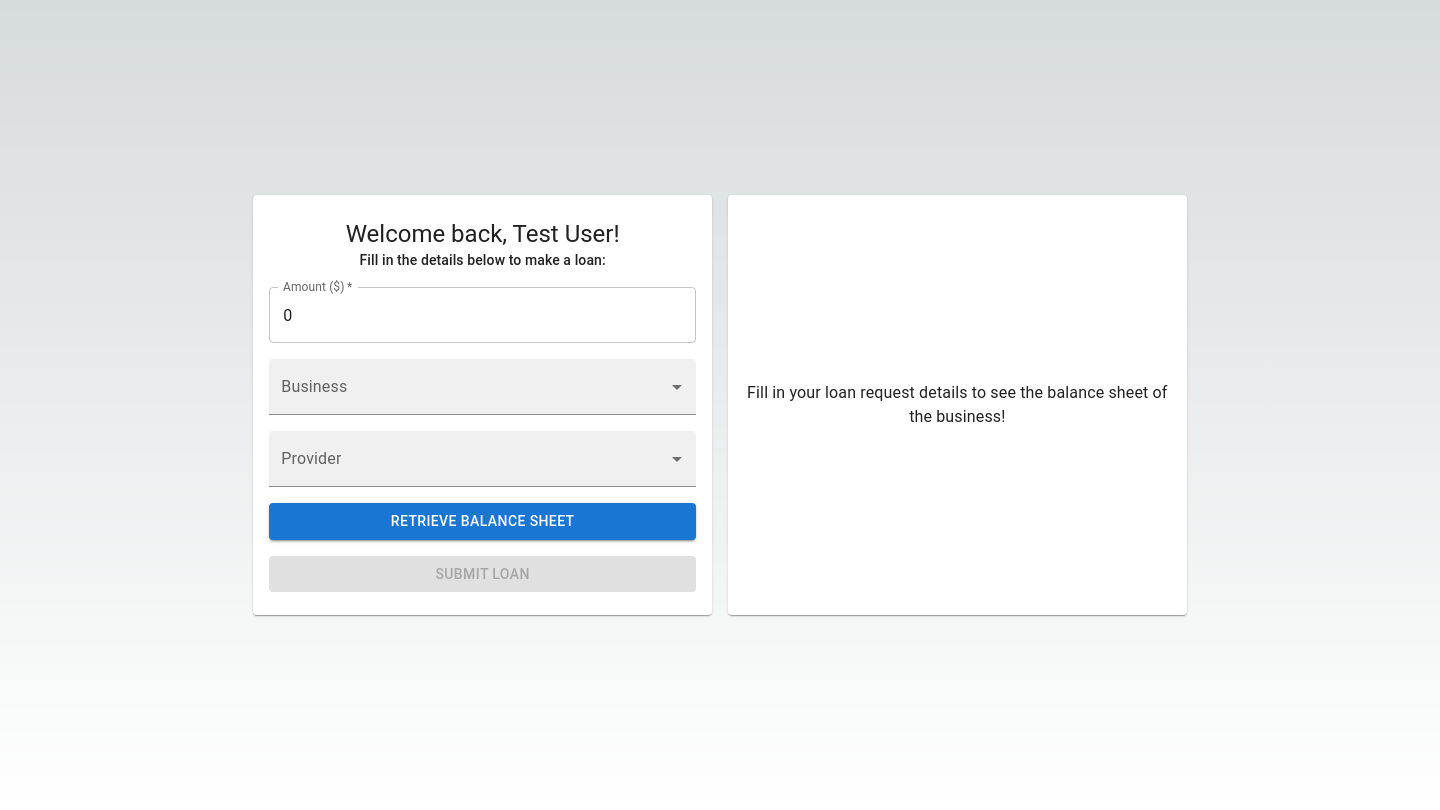
Test case: LoanPage › "should have a feedback error for at least one invalid select field"
Replace the text in the field labelled "Amount ($) *" with "100" at (483, 316), box [269,288,696,344]
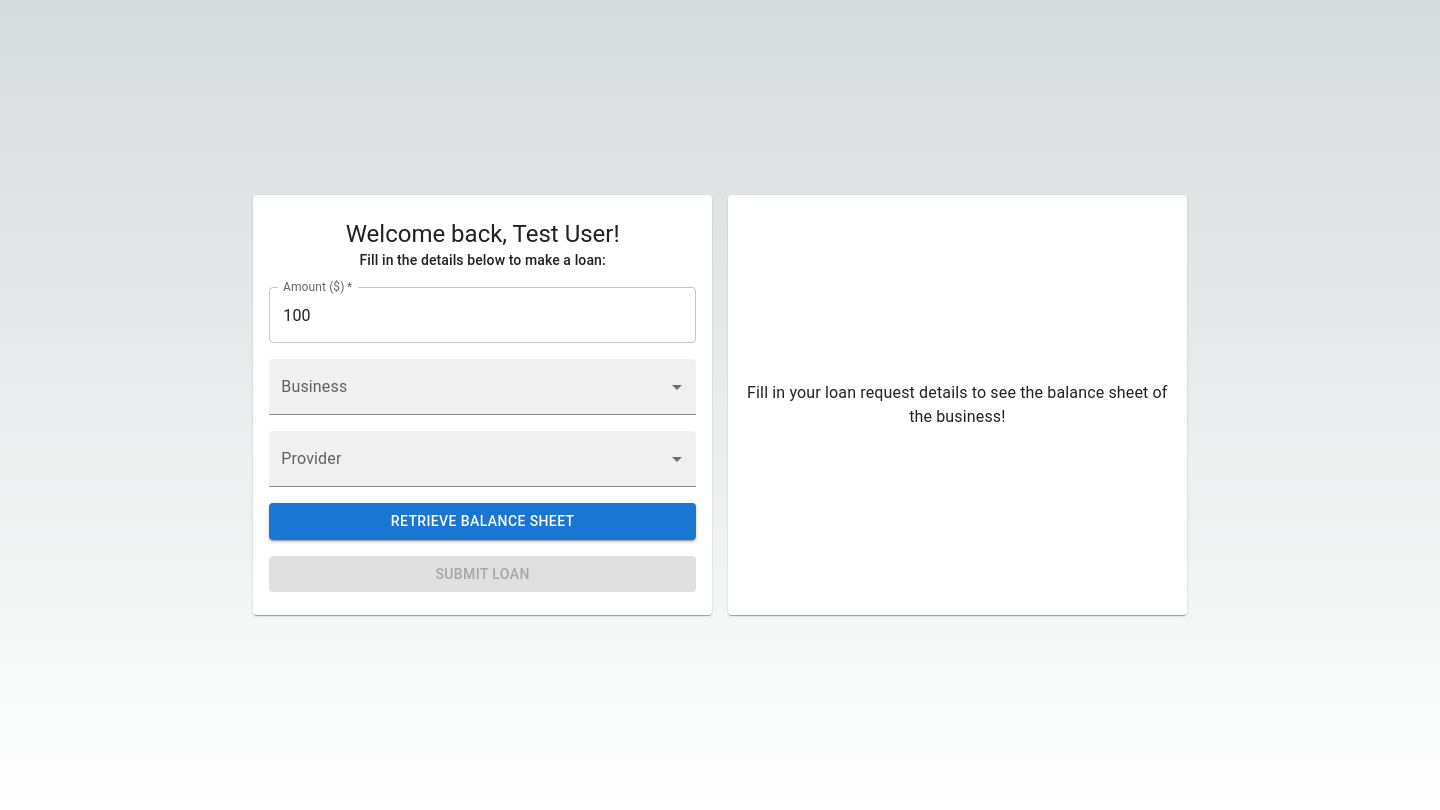
Click the button with test id "retrieve" at (483, 522), box [269,504,696,540]
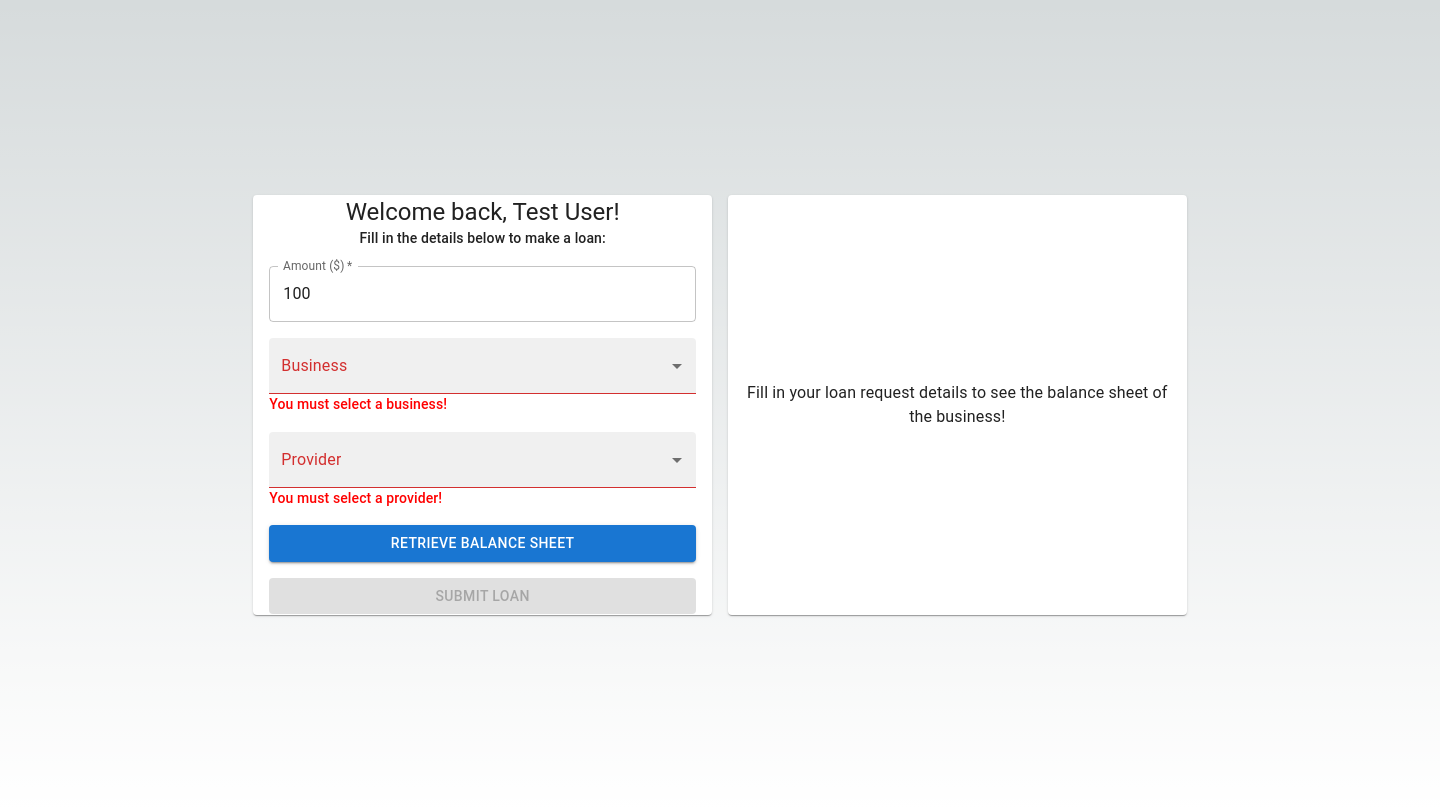
Check: the button with test id "submit" is shown, box [269,578,696,614]
Check: the heading "You must select a business!" is shown, box [269,396,447,412]
Check: the heading "You must select a provider!" is shown, box [269,490,442,506]
